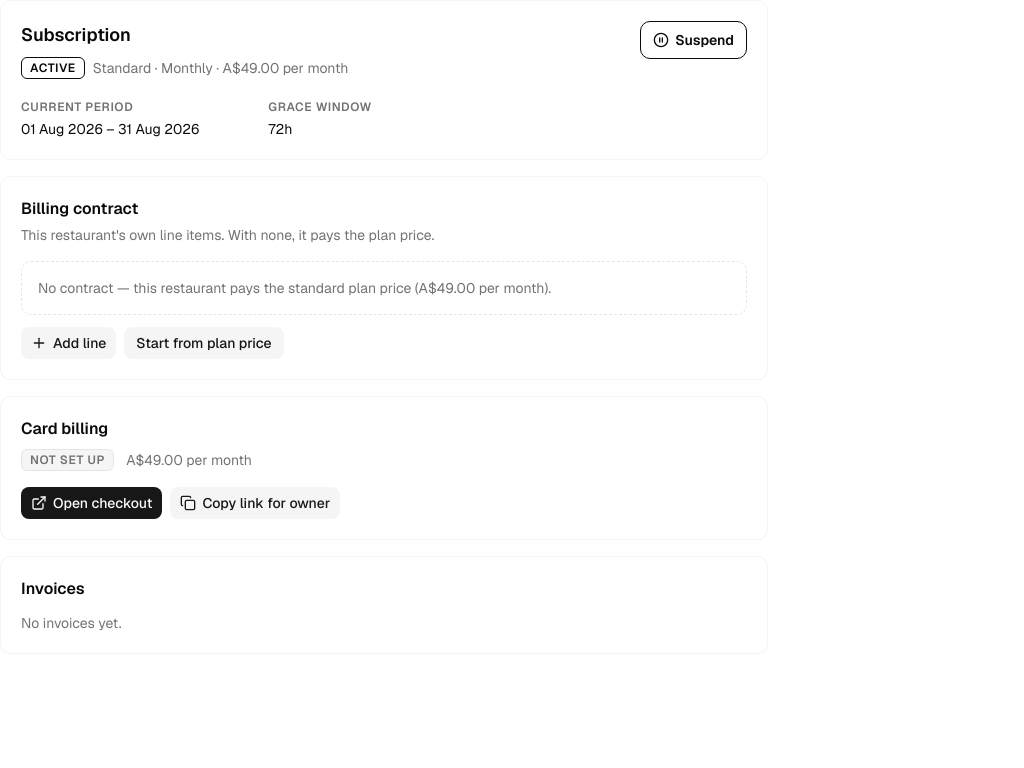
Test case: SubscriptionTab › card billing: shows status and amount, creates a billing link
Expected: the text with test id "card-billing-status" reads "not set up", [30,452,105,468]
Expected: the text with test id "card-billing-amount" reads "A$49.00 per month", [126,451,252,469]
Click the button with test id "card-billing-copy" at [255, 503], box [170,487,340,519]
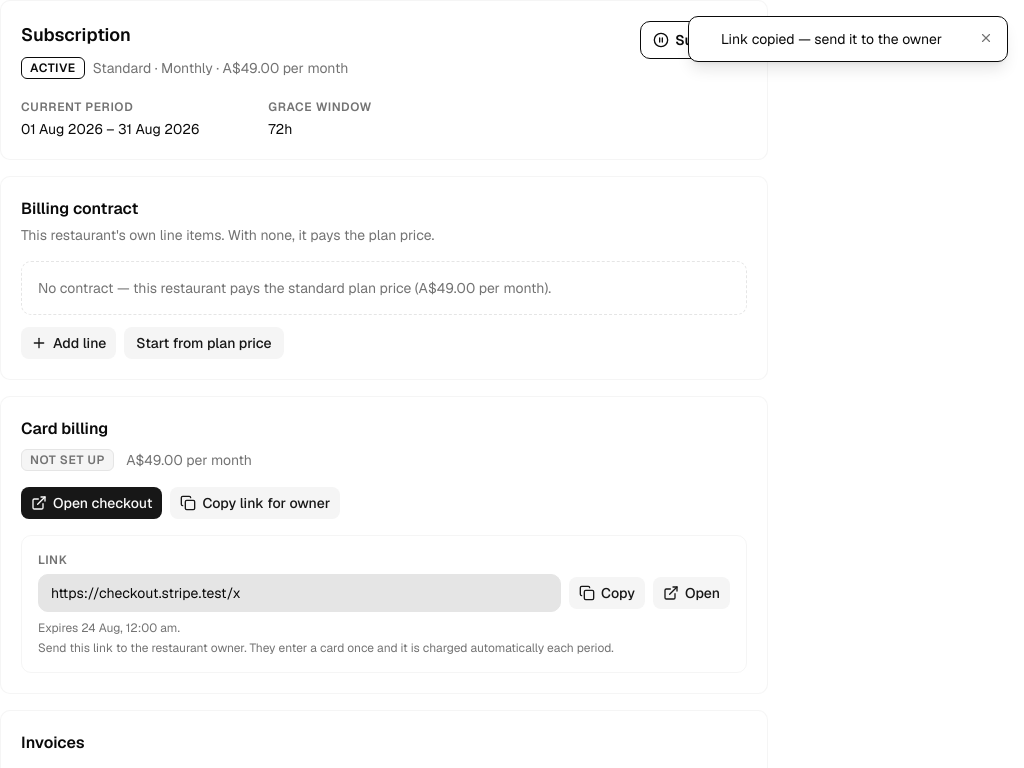
Expected: the field with test id "card-billing-link-result-url" holds "https://checkout.stripe.test/x", [38,574,561,612]
